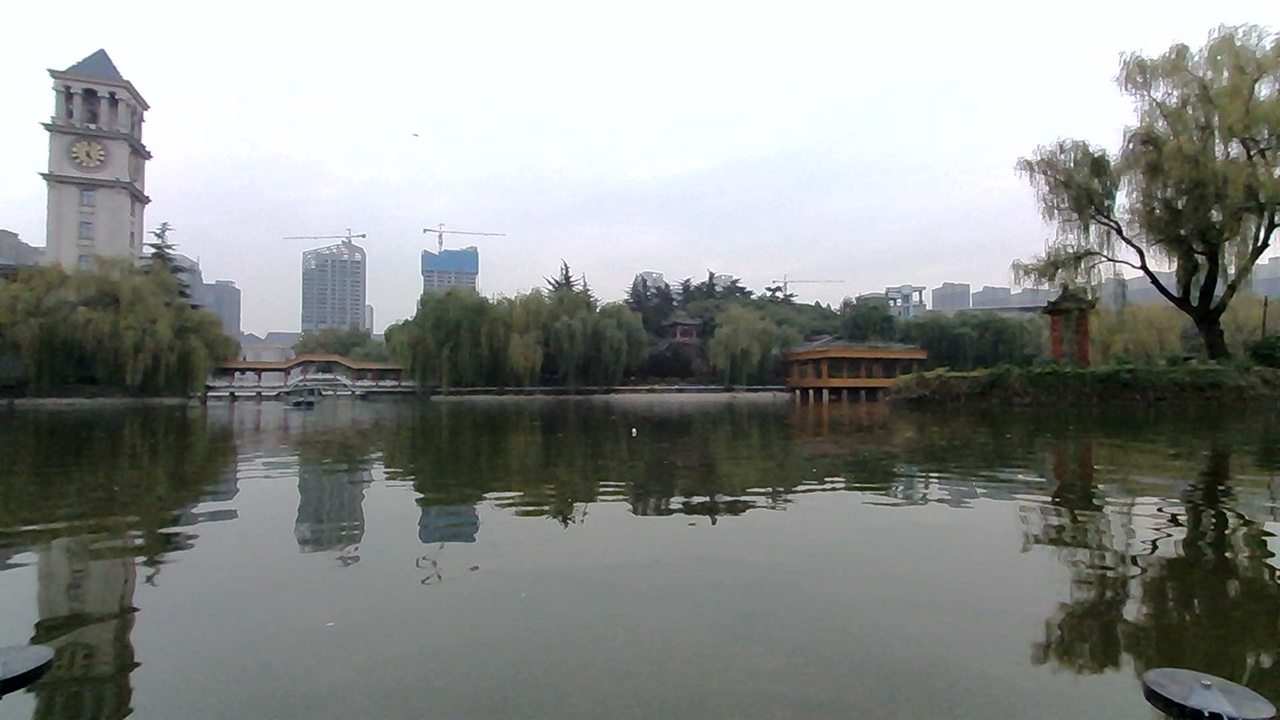bottle: (625, 420, 669, 453)
